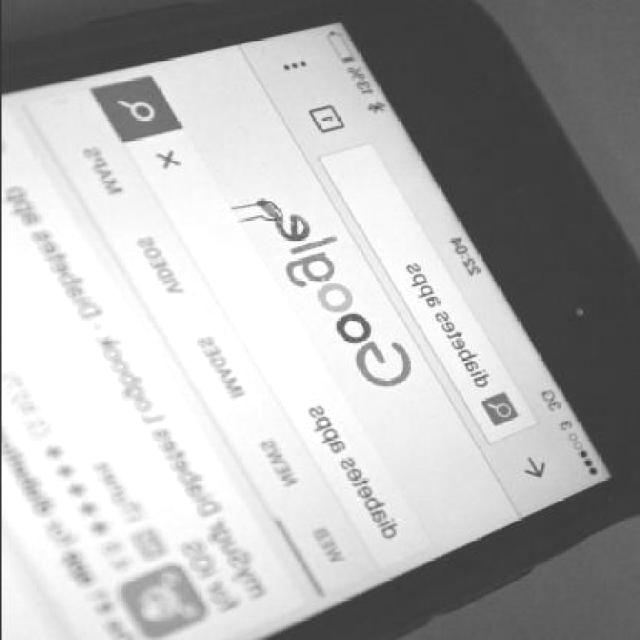fake: (12, 14, 640, 618)
